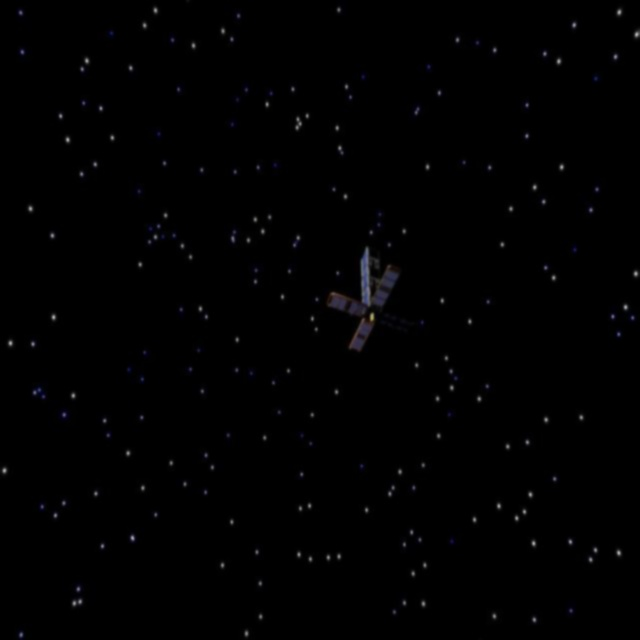satellite: (320, 241, 405, 360)
